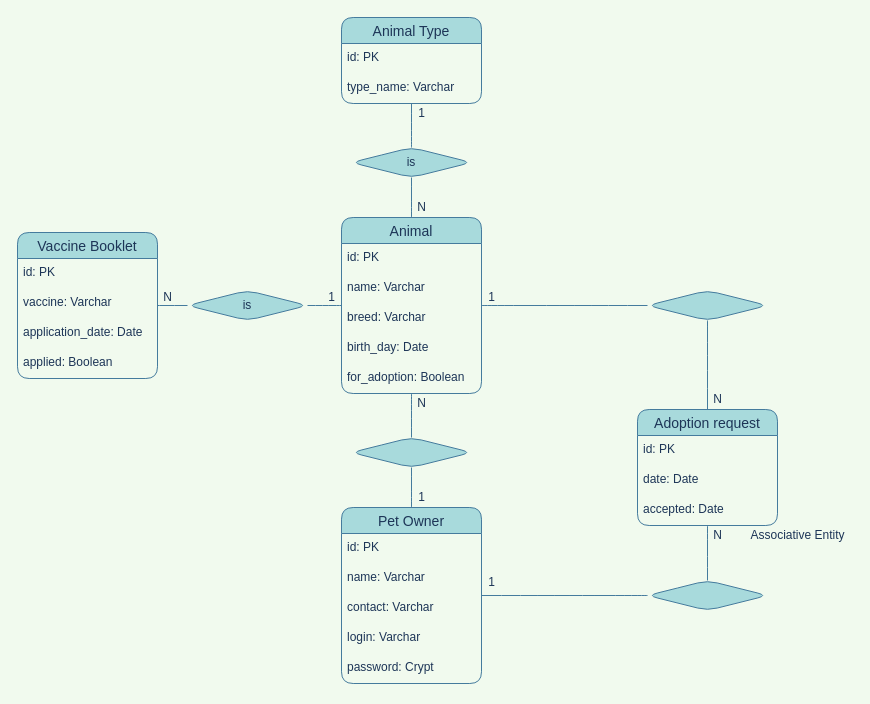
Some shapes in this 870 by 704 pixel diagram are drawn without their labels. Each missing label, with the centre of its shape:
belongs: point 411,452
receiver: point 707,305
requester: point 707,595
